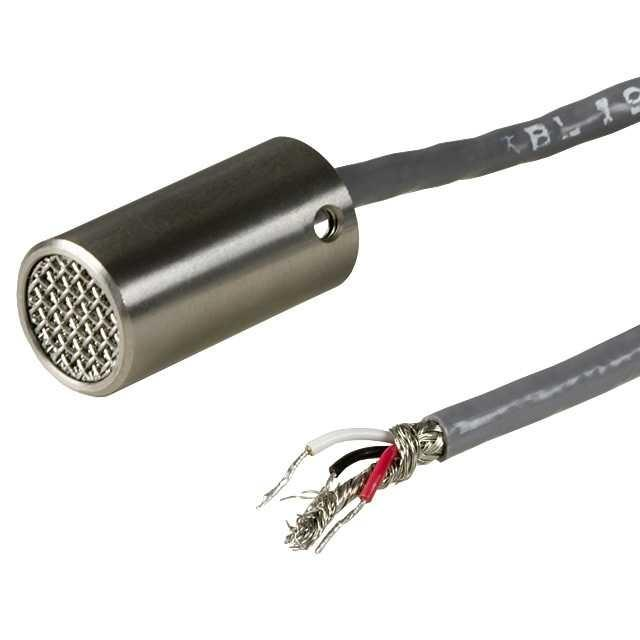microphone: (19, 66, 625, 384)
